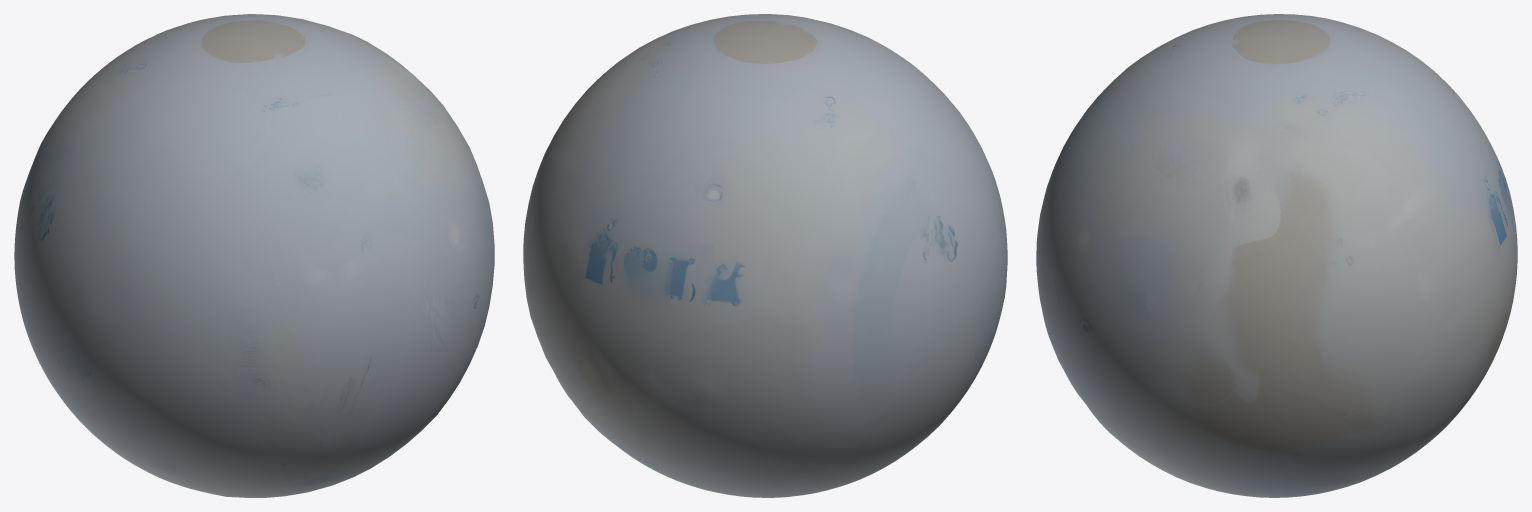
File: moon.obj
3 views of the same model, side by side, from view 1: azimuth 30°, elevation 25°; view 2: azimuth 150°, elevation 25°; view 3: azimuth 270°, elevation 25° (orthographic).
Parts seen in each view (by area): view 1: tripo_node_2ed32cdb-5128-4834-9316-d7e660e6a7fe; view 2: tripo_node_2ed32cdb-5128-4834-9316-d7e660e6a7fe; view 3: tripo_node_2ed32cdb-5128-4834-9316-d7e660e6a7fe.
Boxes of the visible parts, bbox=[...] form: tripo_node_2ed32cdb-5128-4834-9316-d7e660e6a7fe: bbox=[14, 14, 494, 497]; tripo_node_2ed32cdb-5128-4834-9316-d7e660e6a7fe: bbox=[523, 14, 1007, 497]; tripo_node_2ed32cdb-5128-4834-9316-d7e660e6a7fe: bbox=[1036, 14, 1517, 497].
Bounding box in the file's own units: 0.9985 × 0.9997 × 0.9953.
Materials: 1 (1 with a texture image).
